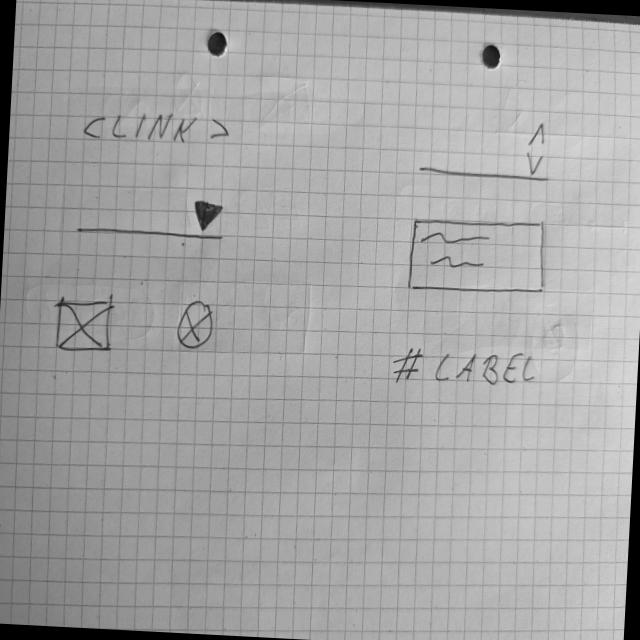image: (53, 290, 116, 358), (174, 298, 216, 352)
label: (391, 344, 538, 392)
link: (82, 108, 234, 150)
number-input: (416, 111, 556, 186)
select: (74, 192, 230, 244)
textarea: (404, 212, 550, 298)
